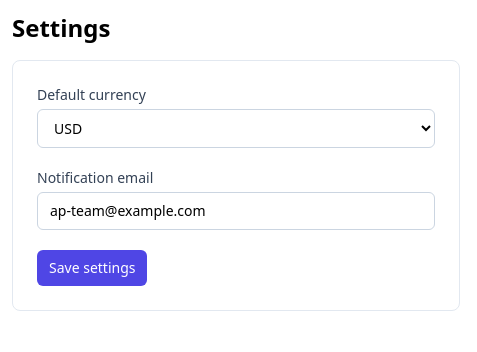
it: SettingsPage › shows a validation error and does not save an invalid email
This screenshot has width=477, height=352.
Replace the text in the field labelled "Notification email" with "not-an-email" at (236, 211), box [37,192,435,230]
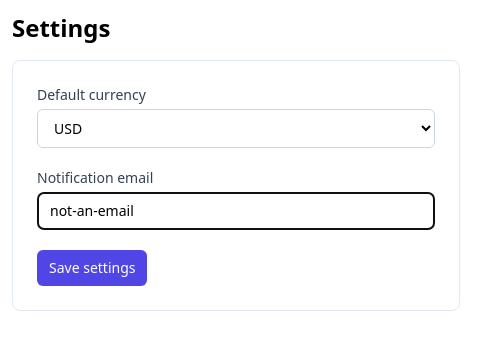
Click the button "Save settings" at (92, 268), box [37,250,148,286]
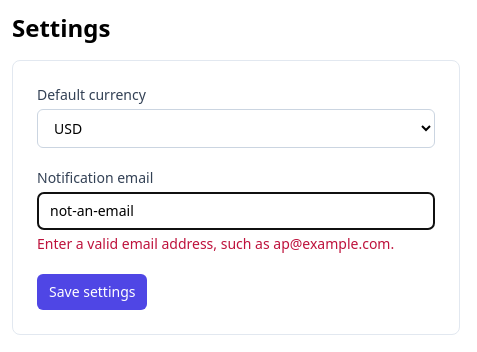
Check: the text "Enter a valid email address, such as ap@example.com." is shown, box [37,234,435,254]
